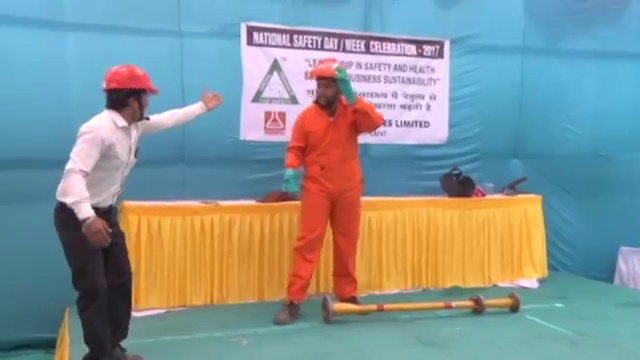helmet: (100, 63, 161, 96), (307, 57, 346, 82)
helmet_on: (97, 61, 163, 128), (304, 53, 349, 116)
person: (54, 61, 228, 360), (271, 49, 386, 324)
